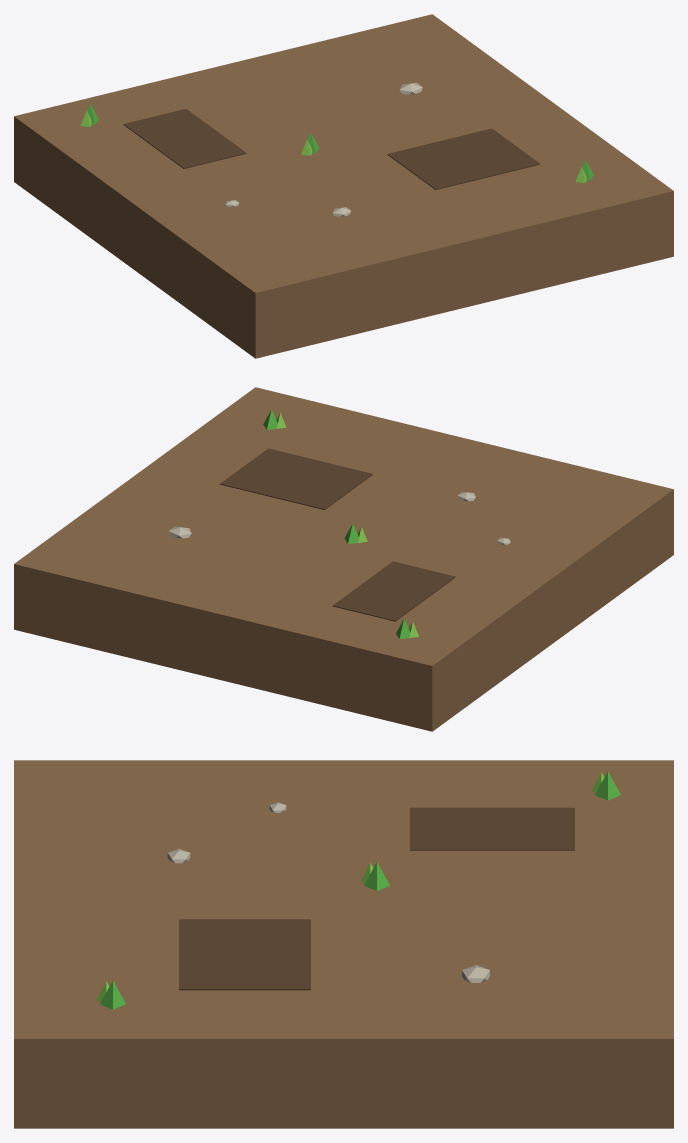
Rendered from terra.glb.
3 renders of one model, top to bottom at view 1: azimuth 30°, elevation 25°; view 2: azimuth 150°, elevation 25°; view 3: azimuth 270°, elevation 25°, orthographic. The views are drawn at different scales.
Visible parts, largest first — view 1: corpo; view 2: corpo; view 3: corpo.
Part boxes in pixels (x1,y1,x2,y2): corpo: (14,14,673,358); corpo: (14,387,673,731); corpo: (14,760,673,1128).
Size of the model in its own units: 2 by 0.38 by 2.
